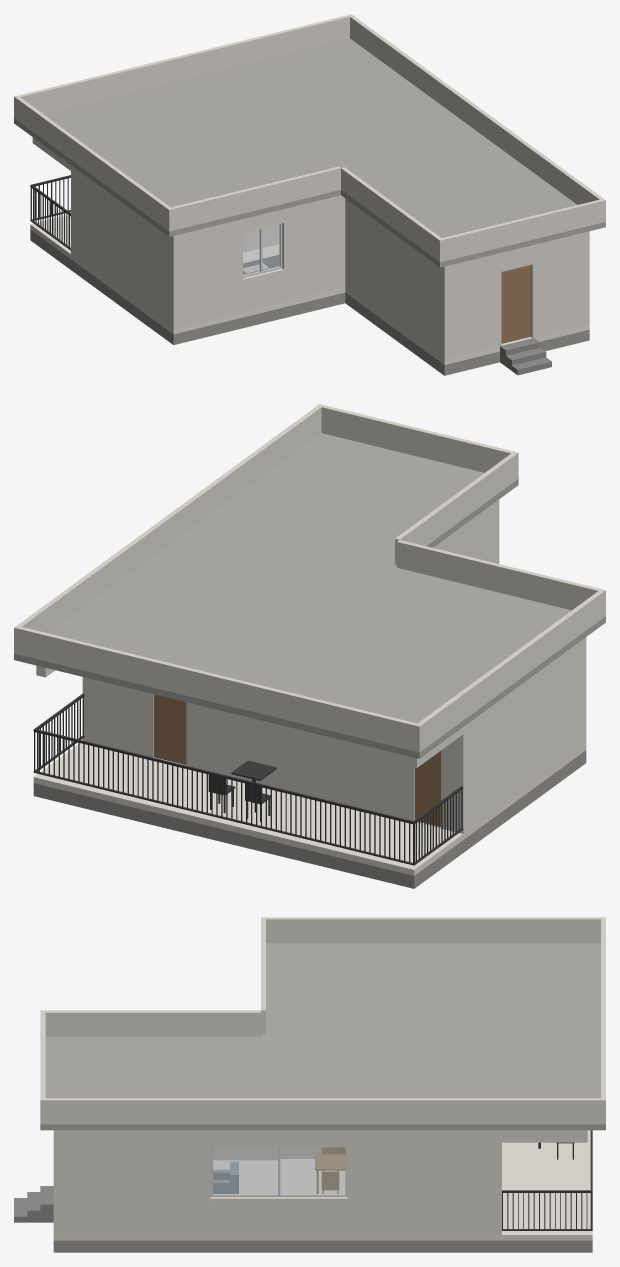
3 renders of one model, top to bottom at view 1: azimuth 30°, elevation 25°; view 2: azimuth 150°, elevation 25°; view 3: azimuth 270°, elevation 25°, orthographic. The views are drawn at different scales.
Visible parts, largest first — view 1: Roof, Walls, Parapet, Plinth, Floor, Doors, Rail, Glass, Steps, Frames, Lintels; view 2: Roof, Parapet, Walls, Floor, Rail, Plinth, Doors, F_metal, Frames; view 3: Roof, Walls, Parapet, Floor, Plinth, Glass, Beams, Rail, Lintels, Steps, F_wood, Frames (+2 smaller).
Boxes of the visible parts, x1,y1,x2,y2 form: Roof: (14, 38, 605, 267); Walls: (71, 165, 589, 359); Parapet: (14, 14, 605, 262); Plinth: (30, 230, 589, 375); Floor: (30, 215, 589, 364); Doors: (501, 265, 530, 343); Rail: (30, 175, 70, 250); Glass: (243, 224, 279, 275); Steps: (500, 338, 551, 375); Frames: (242, 223, 534, 345); Lintels: (242, 218, 534, 270); Roof: (14, 433, 605, 758); Parapet: (14, 404, 605, 752); Walls: (82, 499, 586, 833); Floor: (33, 743, 586, 875); Rail: (33, 693, 463, 865); Plinth: (33, 750, 586, 888); Doors: (154, 694, 440, 827); F_metal: (208, 760, 276, 821); Frames: (151, 693, 442, 828); Roof: (40, 943, 605, 1130); Walls: (53, 1130, 501, 1234); Parapet: (40, 917, 605, 1124); Floor: (53, 1130, 592, 1240); Plinth: (53, 1240, 592, 1252); Glass: (213, 1147, 344, 1194); Beams: (210, 1130, 587, 1142); Rail: (502, 1130, 592, 1230); Lintels: (210, 1135, 347, 1146); Steps: (14, 1186, 53, 1222); F_wood: (315, 1147, 345, 1193); Frames: (210, 1146, 347, 1196).
Bounding box in the file's own units: 9.83 × 3.95 × 13.43.
